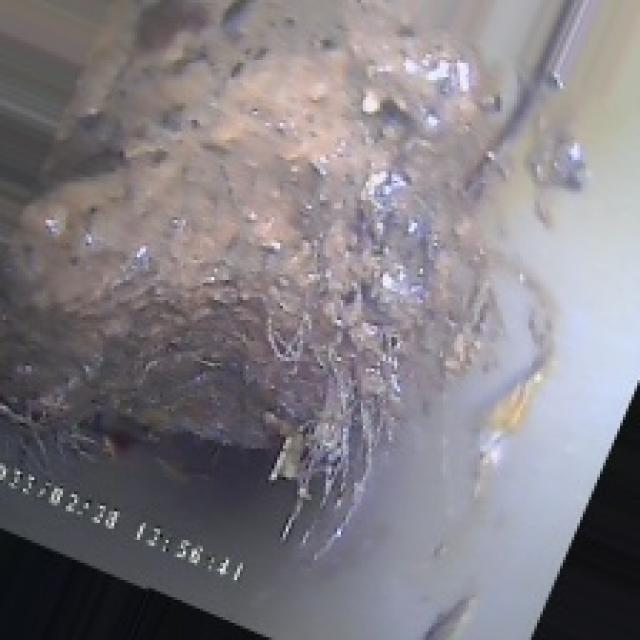sluge accumulation: (57, 46, 549, 460)
